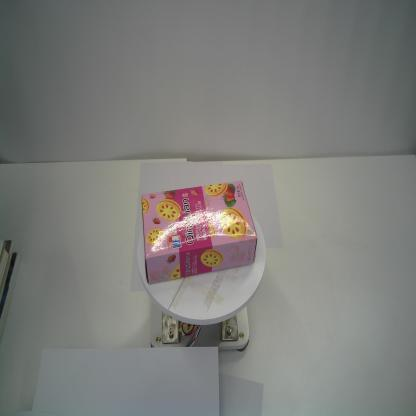Dessert: (140, 178, 260, 286)
